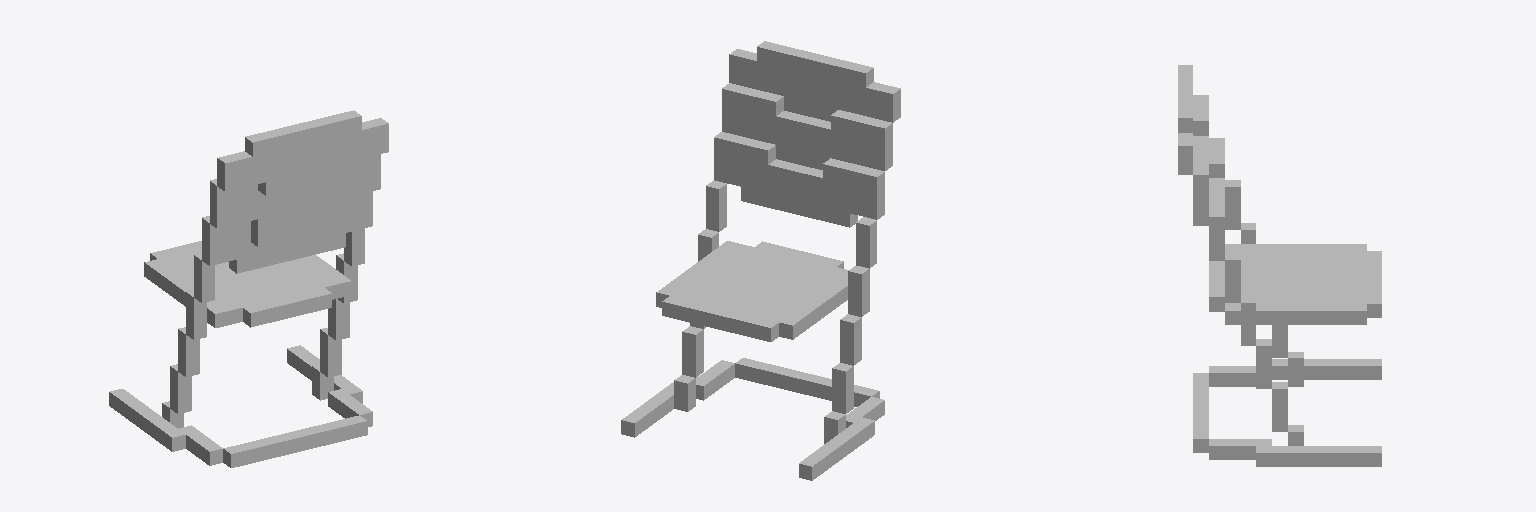
File: chair.obj
The picture shows the model from 3 angles: view 1: azimuth 30°, elevation 25°; view 2: azimuth 150°, elevation 25°; view 3: azimuth 270°, elevation 25°; orthographic projection.
Parts seen in each view (by area): view 1: object 1; view 2: object 1; view 3: object 1.
Part boxes in pixels (bbox=[...]): object 1: bbox=[109, 110, 388, 467]; object 1: bbox=[621, 41, 900, 480]; object 1: bbox=[1178, 65, 1381, 466].
Bounding box in the file's own units: 1.4 × 2.3 × 1.3.